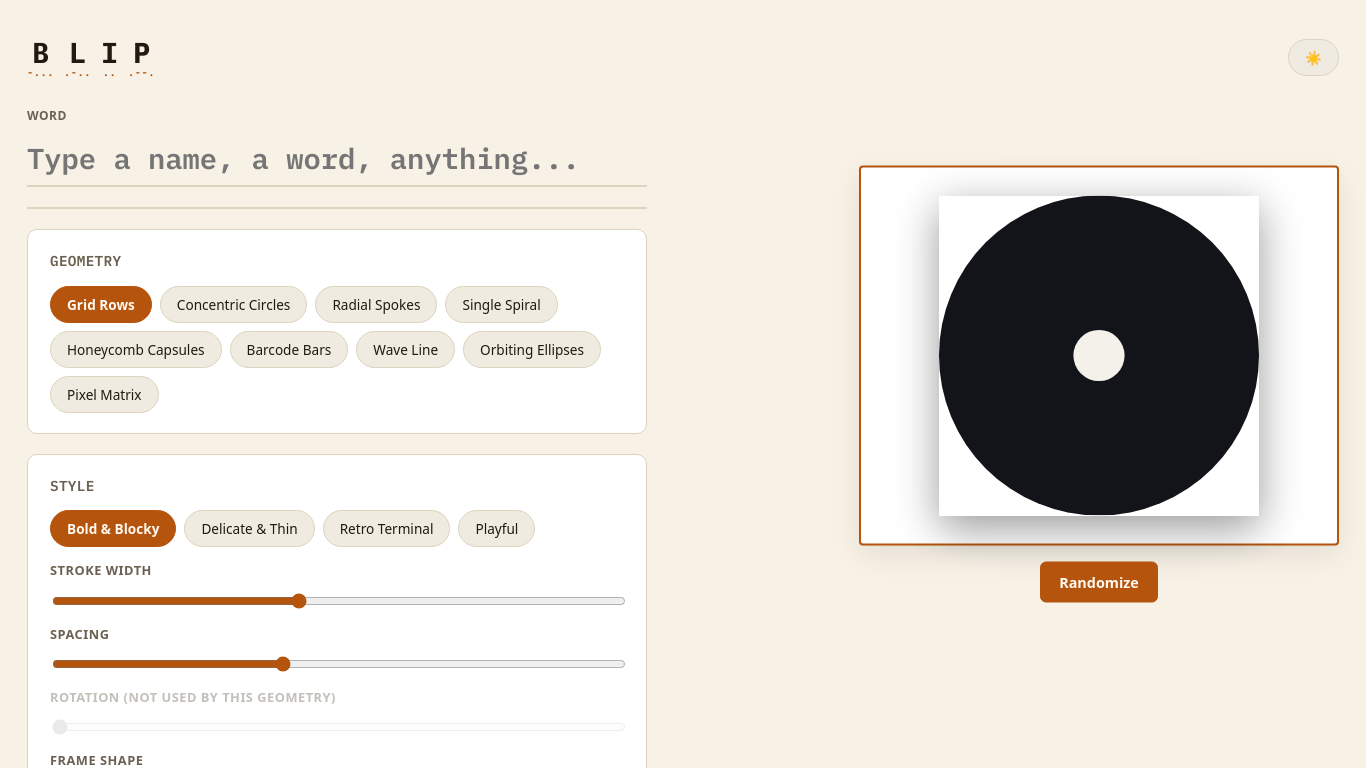
Test: Randomize's strokeWidth and spacing survive even though the patch also includes a style
The width and height of the screenshot is (1366, 768).
Click the button "Randomize".
click(1099, 582)  # box [1040,562,1158,602]
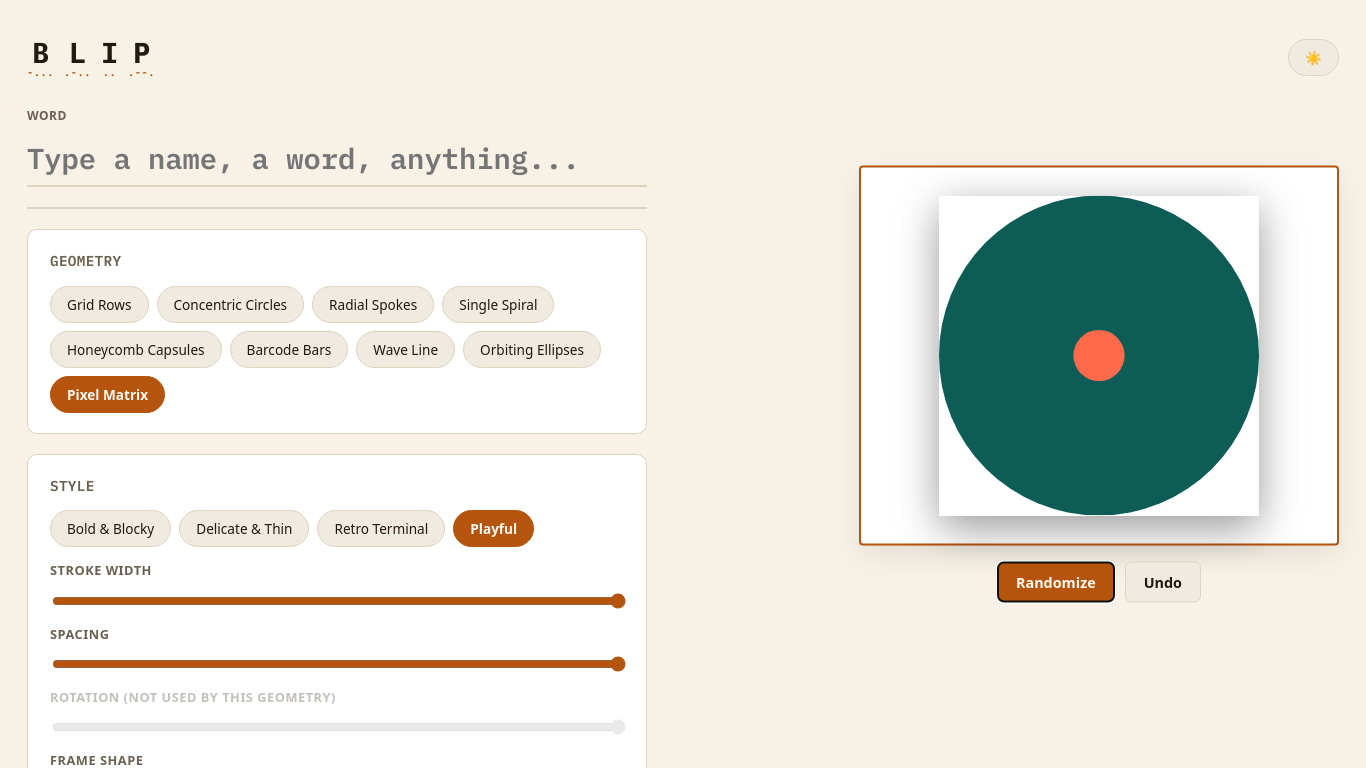
Expected: the slider labelled "Stroke width" holds "16", [52,593,626,609]
